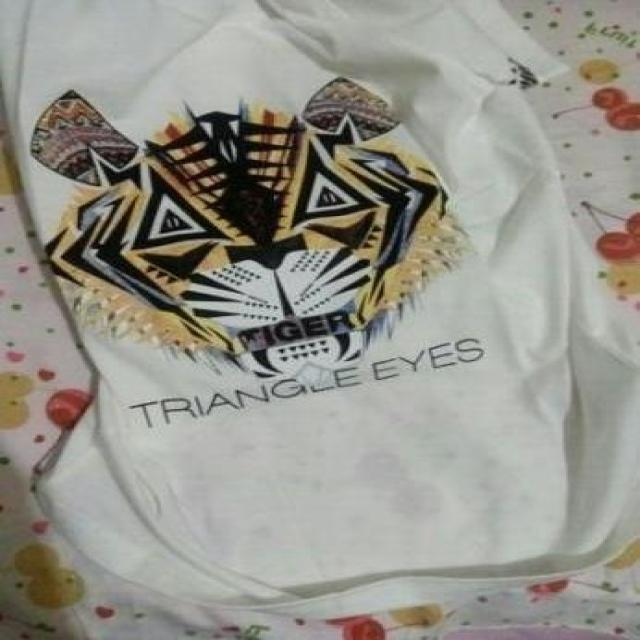short sleeve top: (1, 0, 640, 619)
